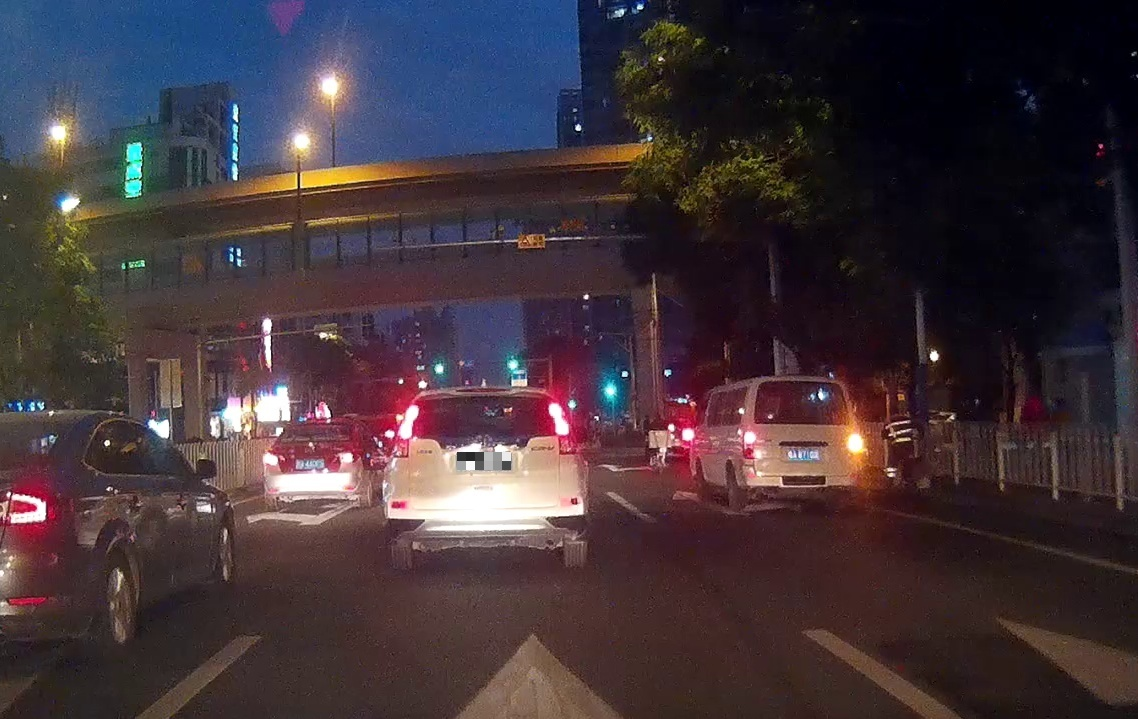L_light: (397, 405, 419, 440), (742, 431, 756, 460), (263, 453, 277, 465)
R_light: (548, 403, 569, 436), (848, 433, 862, 455), (338, 451, 354, 464)
T_light: (472, 397, 499, 402), (792, 381, 809, 386), (310, 424, 325, 427)
night-no: (382, 387, 584, 566), (263, 419, 359, 507)
night-right: (741, 377, 863, 514)
plate_1: (457, 452, 511, 470)
